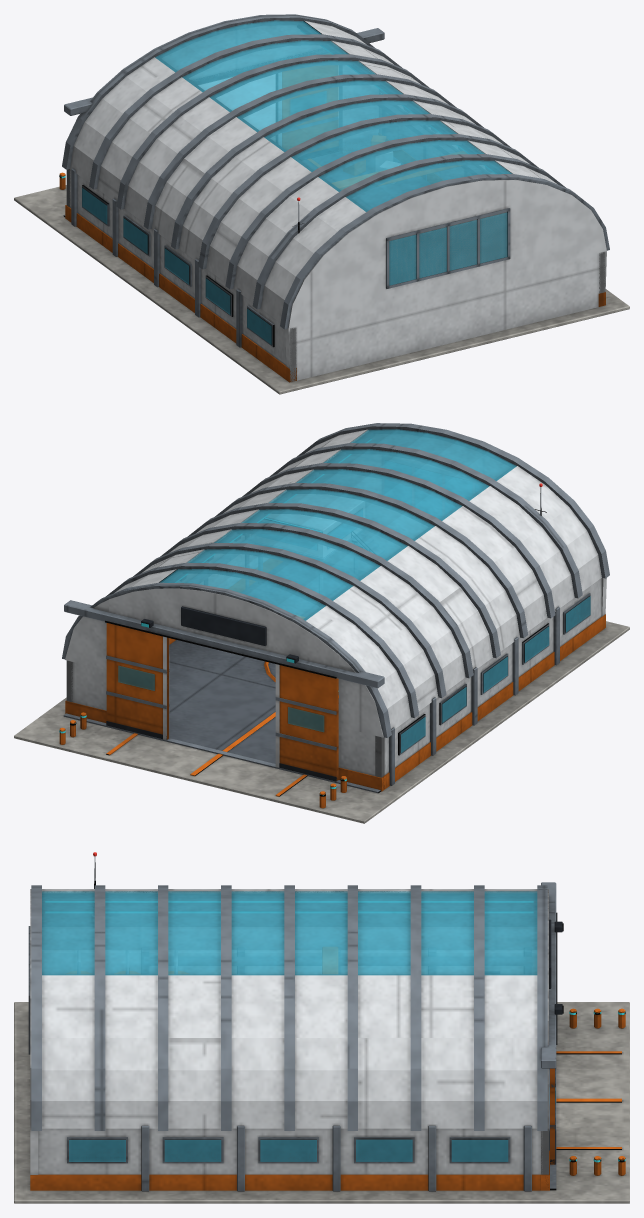
File: hangar_humano.fbx
3 views of the same model, one above another, from view 1: azimuth 30°, elevation 25°; view 2: azimuth 150°, elevation 25°; view 3: azimuth 270°, elevation 25° (orthographic). The views are drawn at different scales.
Visible parts, largest first — view 1: hangar_humano, hangar_humano_cristal, hangar_humano_puerta_izq; view 2: hangar_humano, hangar_humano_cristal, hangar_humano_puerta_der, hangar_humano_puerta_izq, hangar_humano_cartel, hangar_humano_neon; view 3: hangar_humano, hangar_humano_cristal, hangar_humano_neon, hangar_humano_puerta_izq.
Part boxes in pixels (box(x1,y1,x2,y2)): hangar_humano: box(14, 14, 629, 394); hangar_humano_cristal: box(82, 20, 511, 345); hangar_humano_puerta_izq: box(276, 66, 337, 159); hangar_humano: box(14, 423, 629, 823); hangar_humano_cristal: box(118, 429, 590, 753); hangar_humano_puerta_der: box(275, 664, 338, 781); hangar_humano_puerta_izq: box(106, 623, 169, 740); hangar_humano_cartel: box(181, 606, 266, 645); hangar_humano_neon: box(59, 440, 370, 796); hangar_humano: box(14, 856, 629, 1203); hangar_humano_cristal: box(42, 891, 555, 1161); hangar_humano_neon: box(46, 901, 625, 1162); hangar_humano_puerta_izq: box(549, 1068, 555, 1164).
Size of the model in its own units: 58 by 25.68 by 76.
3 materials, 3 textured.
